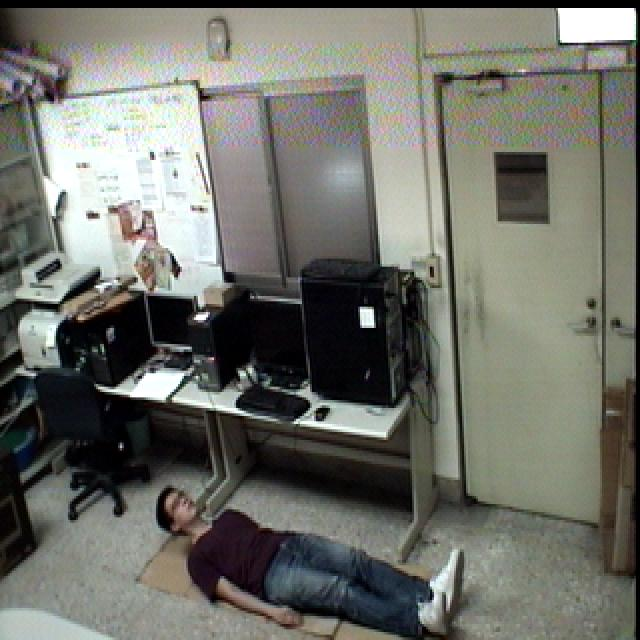lie: (150, 481, 473, 640)
